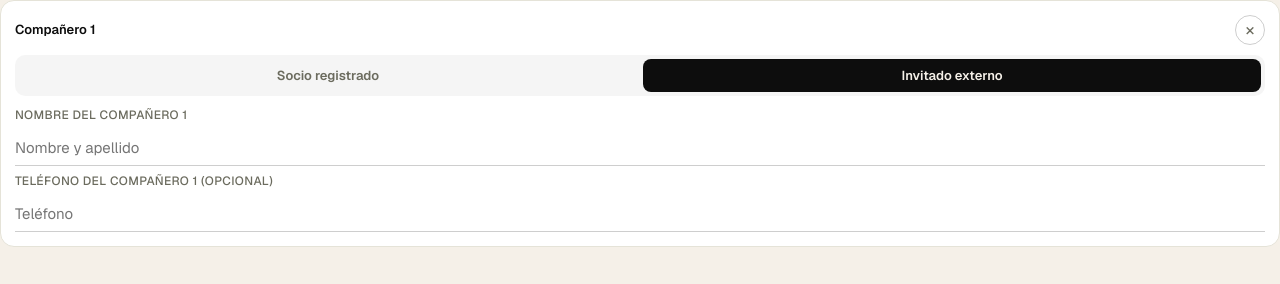
Test: ParticipanteSelector (Grupo 3) › modo socio: el buscador consulta /api/usuarios/buscar y muestra resultados
Step 1. Click the button "Socio registrado" → (328, 76), box [19,59,637,92]
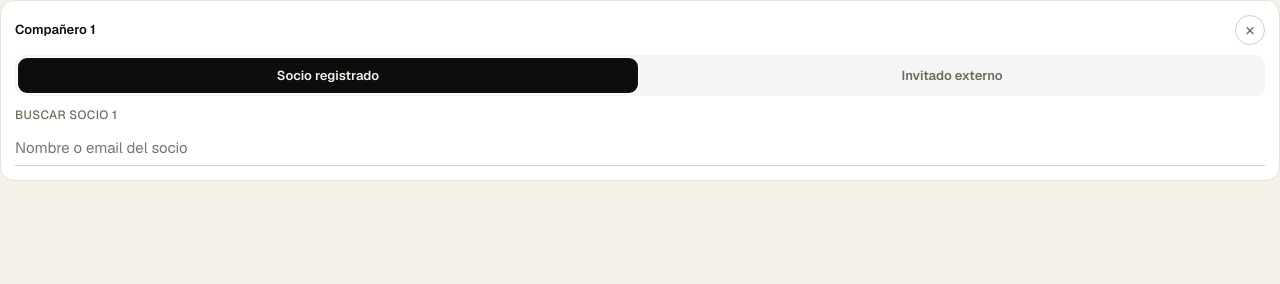
Step 2. Type "Ana" into the dropdown labelled "Buscar socio 1" → (640, 148), box [15,130,1265,166]
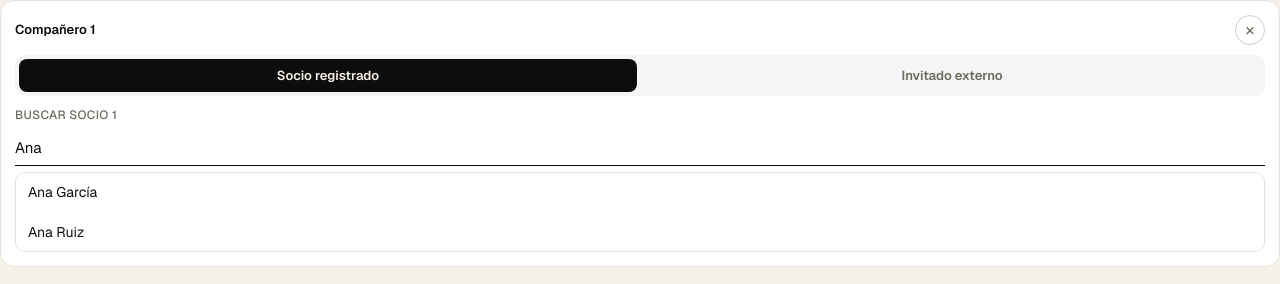
Check: the button "Ana García" is shown, box [16,173,1264,211]
Check: the button "Ana Ruiz" is shown, box [16,213,1264,251]
